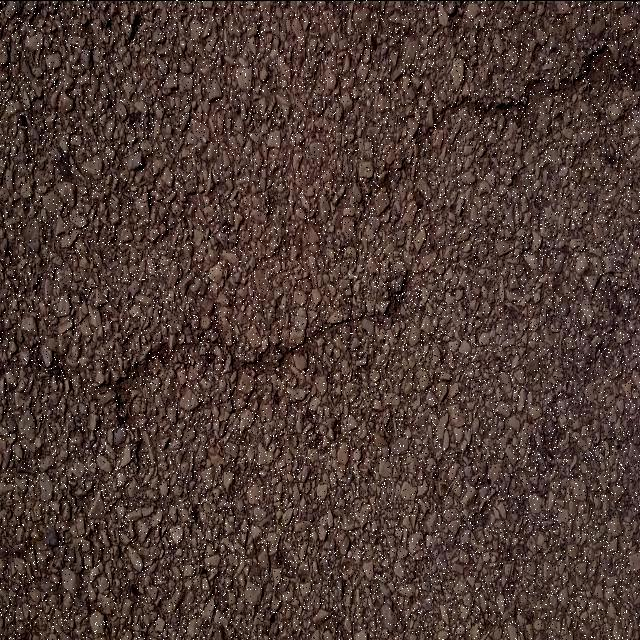Crack: (0, 37, 640, 496)
